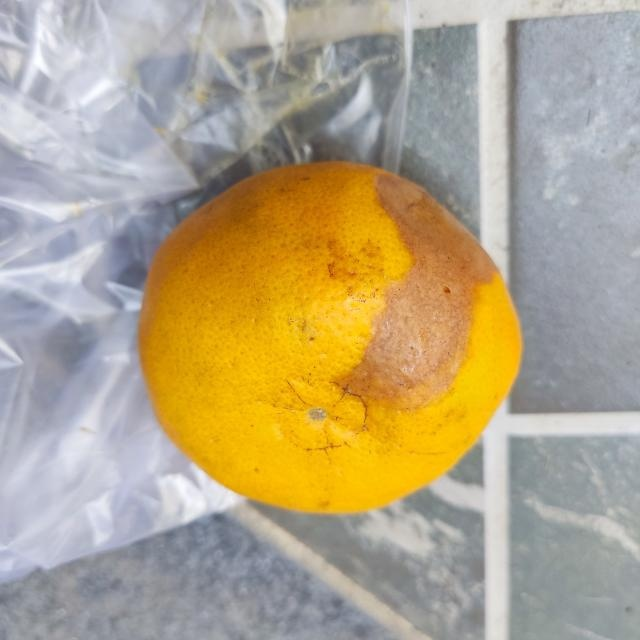agrume: (136, 155, 525, 518)
